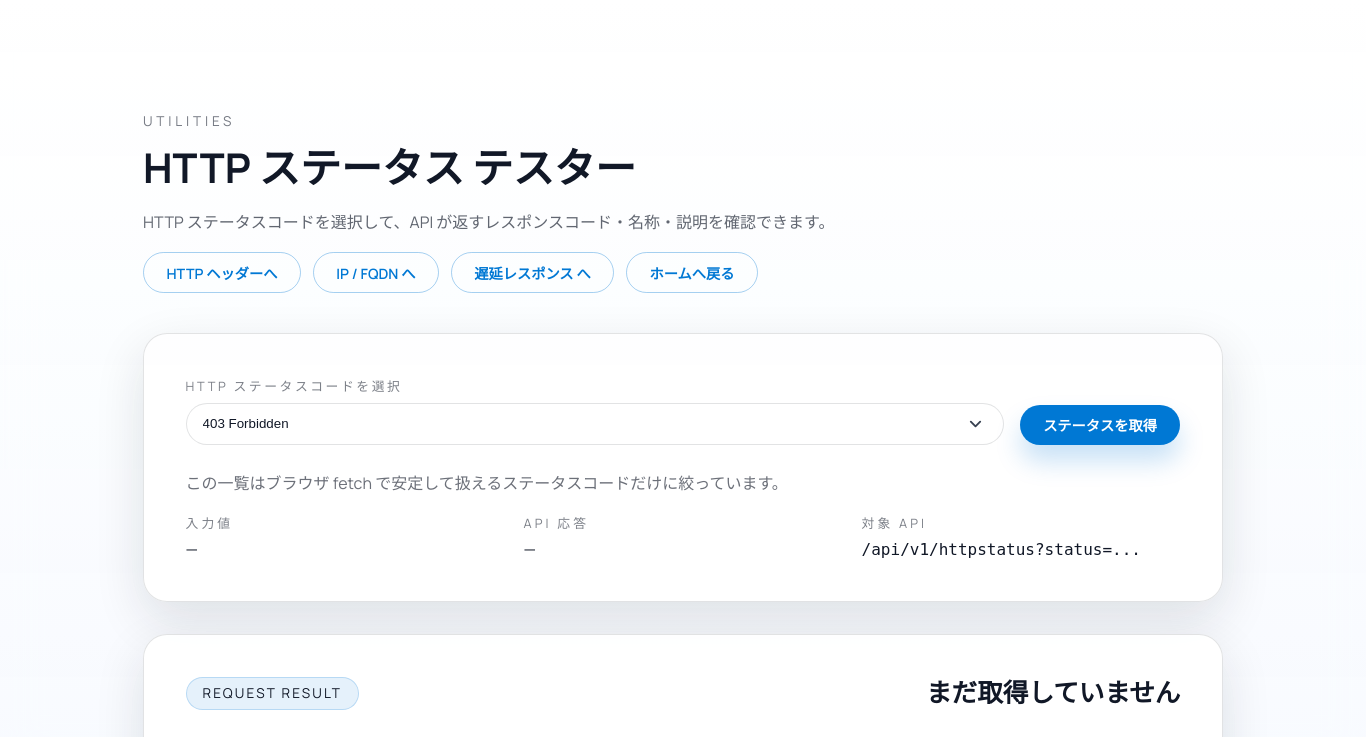
Test case: Utility pages › HttpStatusPage displays a bodyless success for 204
The image size is (1366, 737).
Select "204 No Content" in the dropdown labelled "HTTP ステータスコードを選択" at (595, 424), box [186,403,1004,445]
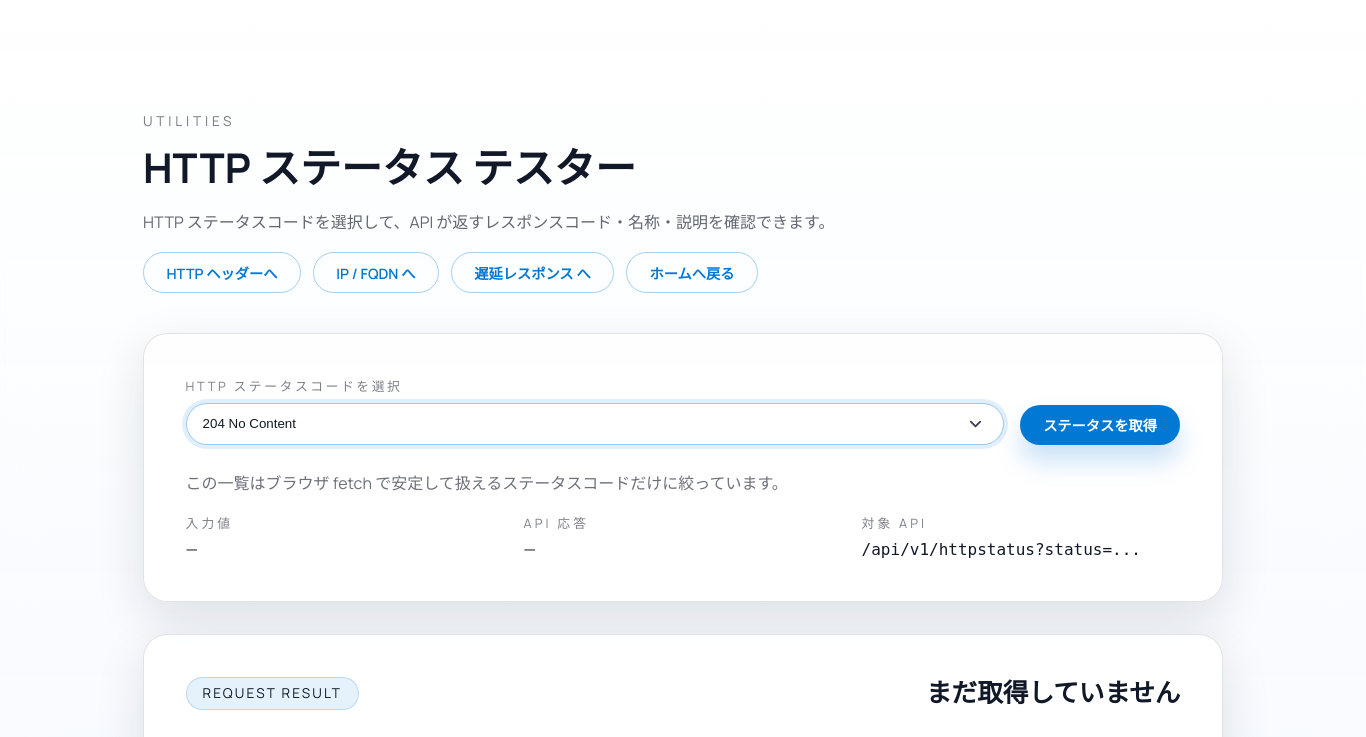
Click the button "ステータスを取得" at (1100, 425), box [1020,405,1180,445]
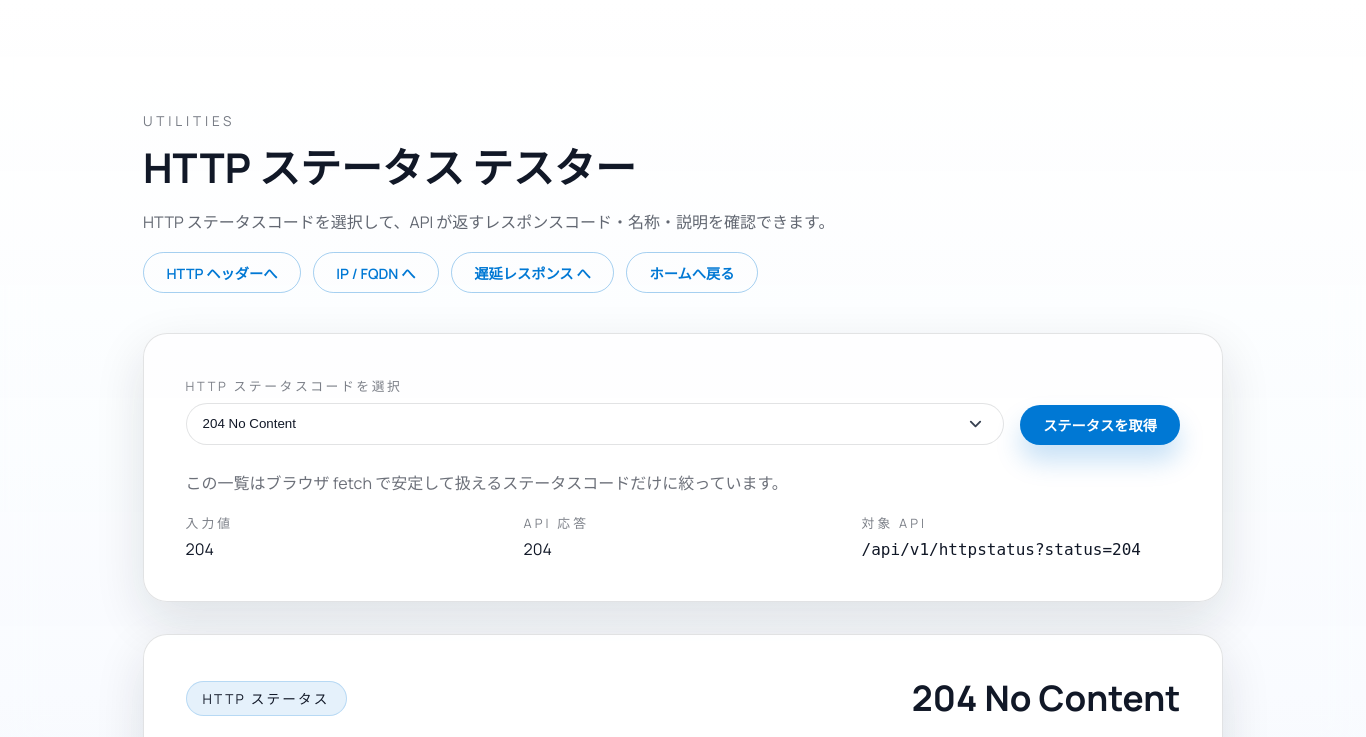
Expected: the heading "204 No Content" is shown, [912,677,1180,719]
Expected: the heading "まだ取得していません" is gone
